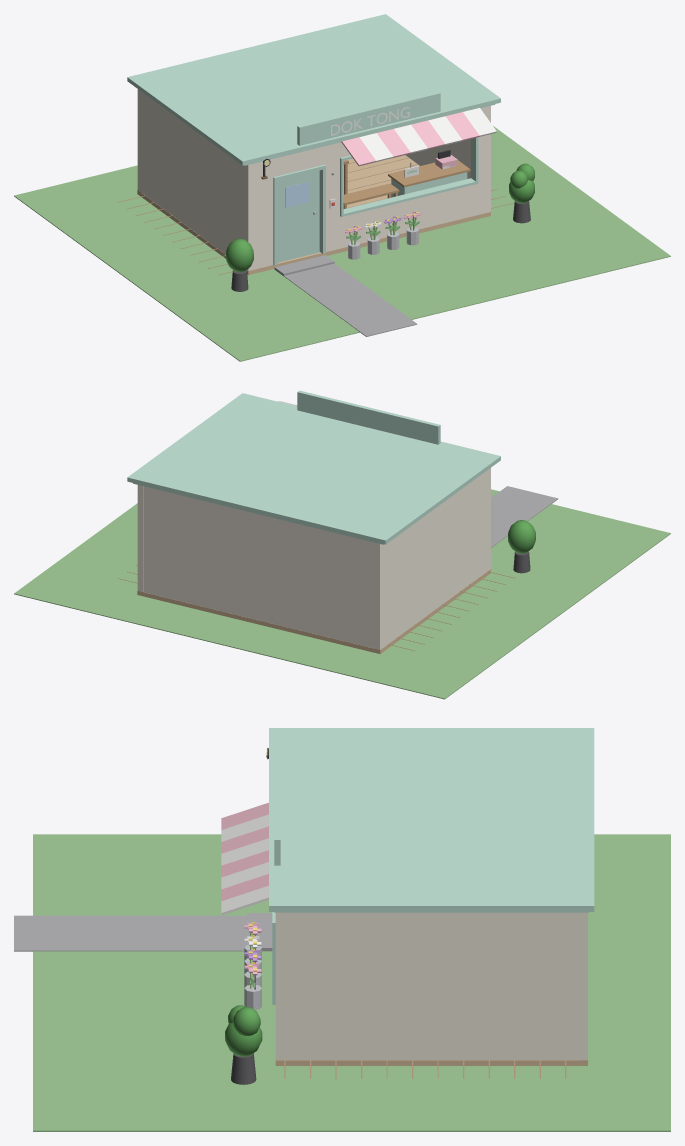
File: house3_flower.fbx
3 renders of one model, top to bottom at view 1: azimuth 30°, elevation 25°; view 2: azimuth 150°, elevation 25°; view 3: azimuth 270°, elevation 25°, orthographic. The views are drawn at different scales.
Visible parts, largest first — view 1: grass, roof, wall.001, path, awning, wall.006, door, floor, sign, wall.003, frame, counter (+9 smaller); view 2: grass, roof, wall, wall.001, sign, path, floor, plant.001, wall.002, laifloor; view 3: grass, roof, wall.002, path, awning, floor, wall, sign, plant.005, step, plant.007, plant.004.
Part boxes in pixels (left/top/right/bottom): grass: left=14, top=126, right=670, bottom=361; roof: left=127, top=14, right=500, bottom=165; wall.001: left=141, top=91, right=254, bottom=270; path: left=276, top=263, right=417, bottom=336; awning: left=341, top=108, right=496, bottom=166; wall.006: left=340, top=184, right=477, bottom=248; door: left=277, top=170, right=319, bottom=262; floor: left=137, top=155, right=490, bottom=275; sign: left=297, top=91, right=440, bottom=145; wall.003: left=254, top=159, right=273, bottom=269; frame: left=340, top=137, right=478, bottom=216; counter: left=388, top=160, right=470, bottom=197; grass: left=14, top=489, right=670, bottom=699; roof: left=127, top=393, right=500, bottom=544; wall: left=143, top=486, right=383, bottom=649; wall.001: left=374, top=468, right=490, bottom=649; sign: left=297, top=390, right=440, bottom=444; path: left=491, top=486, right=558, bottom=547; floor: left=137, top=569, right=490, bottom=653; plant.001: left=508, top=520, right=535, bottom=553; wall.002: left=137, top=485, right=143, bottom=592; laifloor: left=118, top=565, right=514, bottom=650; grass: left=33, top=834, right=670, bottom=1131; roof: left=269, top=728, right=594, bottom=911; wall.002: left=275, top=912, right=587, bottom=1059; path: left=14, top=915, right=268, bottom=951; awning: left=221, top=802, right=268, bottom=915; floor: left=275, top=1060, right=587, bottom=1065; wall: left=578, top=912, right=587, bottom=1060; sign: left=274, top=743, right=280, bottom=865; plant.005: left=225, top=1023, right=262, bottom=1056; step: left=246, top=913, right=272, bottom=951; plant.007: left=231, top=1053, right=256, bottom=1084; plant.004: left=233, top=1007, right=260, bottom=1035.
Size of the model in its own units: 11 by 3.32 by 10.3.
